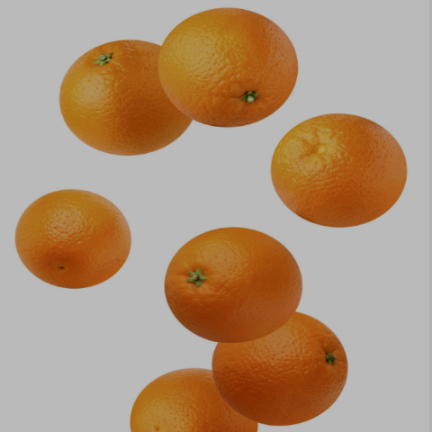orange: (264, 111, 418, 245), (150, 0, 306, 132), (199, 306, 369, 426), (50, 35, 204, 158), (155, 225, 306, 348), (12, 181, 131, 294), (121, 356, 260, 432)
